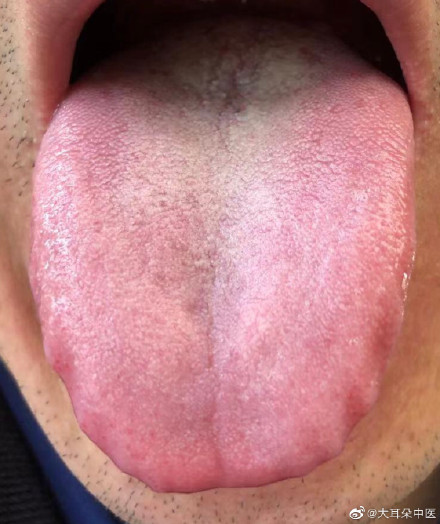baitaishe: (28, 12, 415, 493)
chihenshe: (30, 282, 141, 480)
hongshe: (28, 12, 415, 493)
